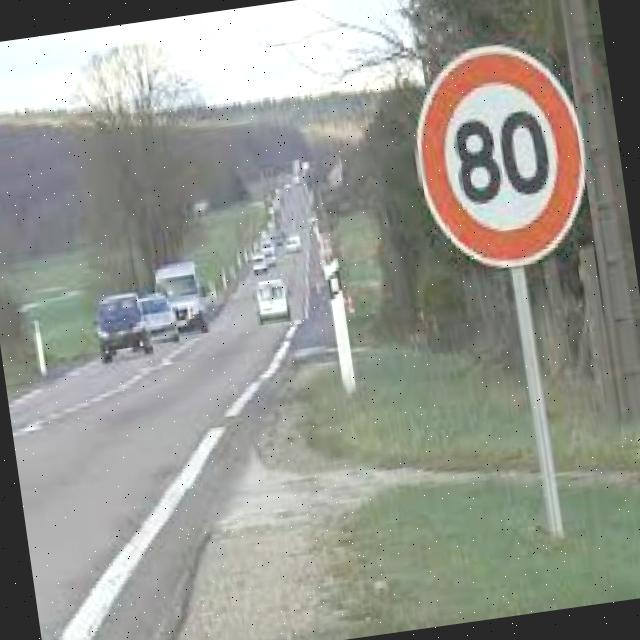Ograniczenie predkosci do 80: (415, 47, 581, 269)
